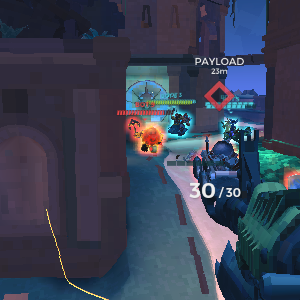model: (132, 120, 165, 159)
